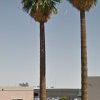Palm tree: (20, 0, 93, 99)
